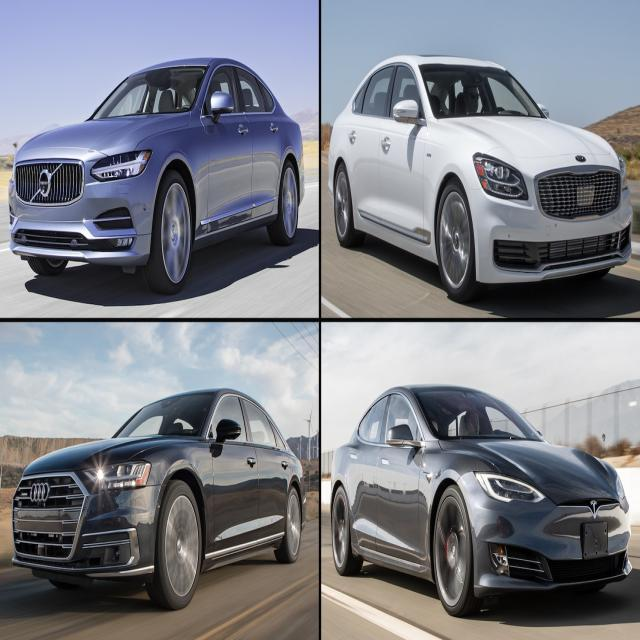pickup: (327, 53, 633, 303), (8, 55, 306, 295), (330, 382, 632, 618), (10, 387, 306, 610)
